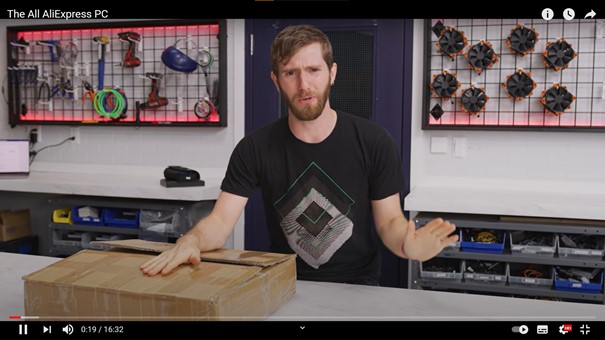without_mask: (272, 42, 338, 121)
